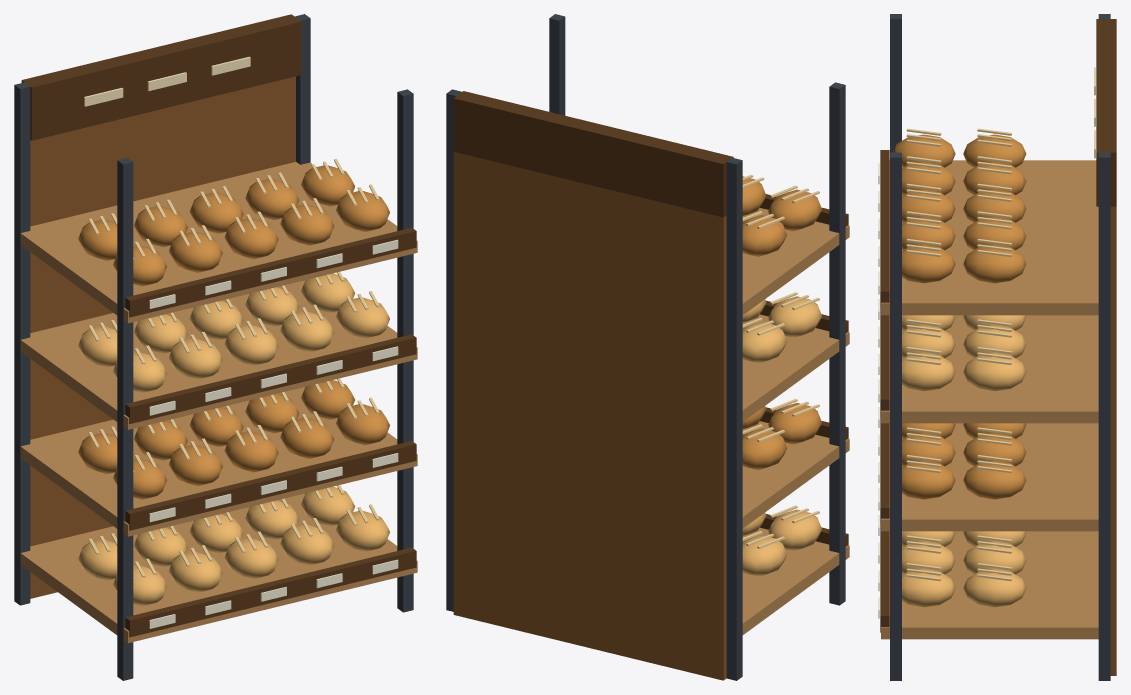
The model's file is shelf-food-bakery.glb.
3 views of the same model, side by side, from view 1: azimuth 30°, elevation 25°; view 2: azimuth 150°, elevation 25°; view 3: azimuth 270°, elevation 25° (orthographic).
Parts seen in each view (by area): view 1: food-deck (×4), food-back, stock-produce_c88a42, stock-produce_e7b368, fixture-upright (×4), food-price-strip (×4), food-header, stock-details_f6d79e, stock-details_f6f0dc, stock-details_f6e6bb; view 2: food-back, fixture-upright (×4), food-header, food-deck (×4), stock-produce_c88a42, stock-produce_e7b368, stock-details_f6d79e; view 3: food-deck (×4), stock-produce_c88a42, fixture-upright (×3), stock-produce_e7b368, stock-details_f6d79e, food-price-strip (×4), food-header, food-back, stock-details_f6f0dc.
Boxes of the visible parts, bbox=[...] form: food-deck (×4): bbox=[20, 162, 417, 643]; food-back: bbox=[30, 76, 295, 598]; stock-produce_c88a42: bbox=[78, 165, 389, 499]; stock-produce_e7b368: bbox=[78, 273, 389, 606]; fixture-upright (×4): bbox=[14, 14, 413, 680]; food-price-strip (×4): bbox=[125, 227, 416, 637]; food-header: bbox=[21, 14, 301, 140]; stock-details_f6d79e: bbox=[88, 159, 379, 580]; stock-details_f6f0dc: bbox=[149, 239, 398, 628]; stock-details_f6e6bb: bbox=[84, 56, 250, 106]; food-back: bbox=[453, 152, 726, 680]; fixture-upright (×4): bbox=[446, 14, 845, 680]; food-header: bbox=[453, 91, 733, 217]; food-deck (×4): bbox=[742, 208, 849, 634]; stock-produce_c88a42: bbox=[742, 176, 821, 469]; stock-produce_e7b368: bbox=[742, 296, 821, 576]; stock-details_f6d79e: bbox=[742, 174, 819, 548]; food-deck (×4): bbox=[881, 160, 1098, 639]; stock-produce_c88a42: bbox=[893, 134, 1026, 499]; fixture-upright (×3): bbox=[890, 14, 1110, 680]; stock-produce_e7b368: bbox=[902, 315, 1026, 607]; stock-details_f6d79e: bbox=[906, 128, 1011, 581]; food-price-strip (×4): bbox=[880, 150, 889, 632]; food-header: bbox=[1096, 19, 1116, 206]; food-back: bbox=[1110, 206, 1116, 675]; stock-details_f6f0dc: bbox=[878, 163, 879, 618].
Size of the model in its own units: 0.912 by 1.55 by 0.6405.
